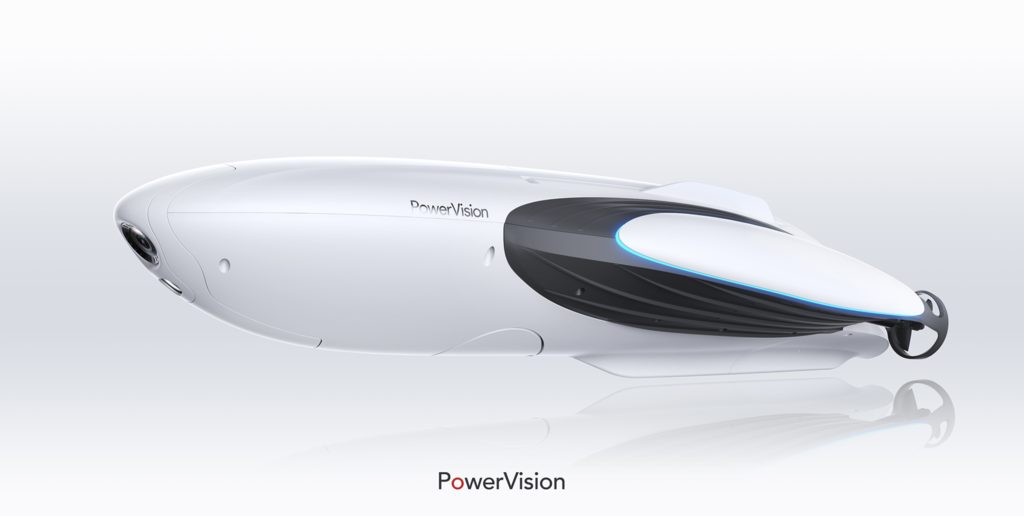drone: (108, 149, 957, 386)
